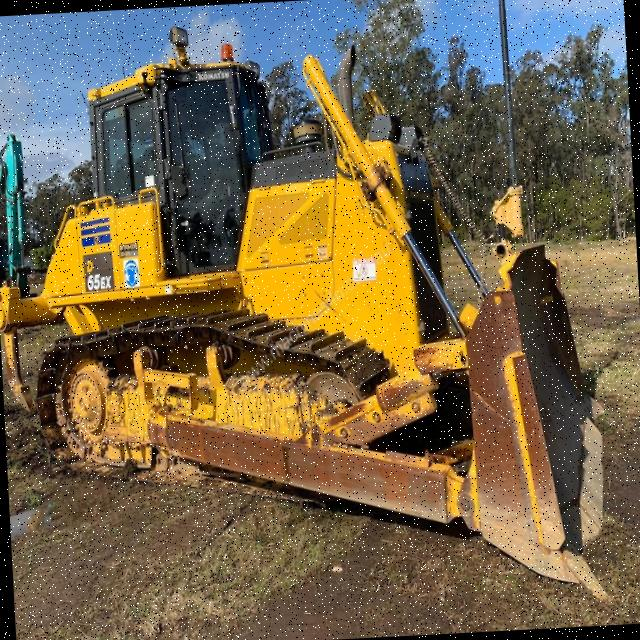Bulldozer: (0, 20, 639, 640)
